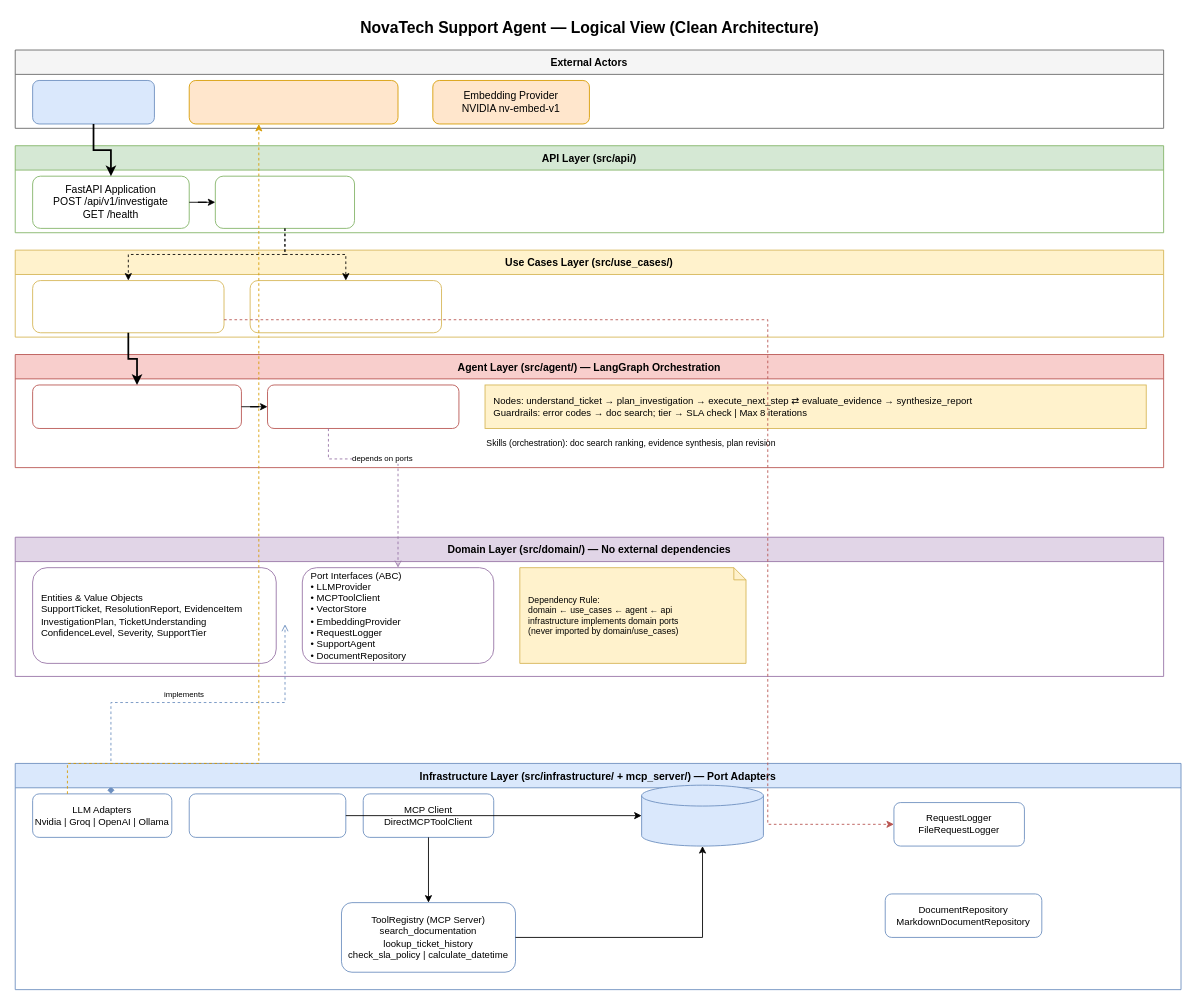
Some shapes in this 1196 by 1005 pixel diagram are drawn without their labels. The centre of each missing label's shape, as x and y in pixels:
Data Stores PostgreSQL + pgvector raw_docs/ | ticket-history.json: point (702, 815)
Dependency Injection dependencies.py: point (284, 201)
IngestDocumentsUseCase Load docs → embed → store: point (345, 306)
InvestigateTicketUseCase Orchestrates agent + logging: point (128, 306)
LangGraphSupportAgent StateGraph with conditional routing: point (363, 406)
LangGraphSupportAgentAdapter (implements SupportAgent port): point (136, 406)
LLM Provider NVIDIA NIM | Groq | OpenAI | Ollama: point (293, 102)
REST Client (curl / support portal): point (93, 102)
VectorStore PgVectorStore | InMemoryVectorStore: point (267, 815)
